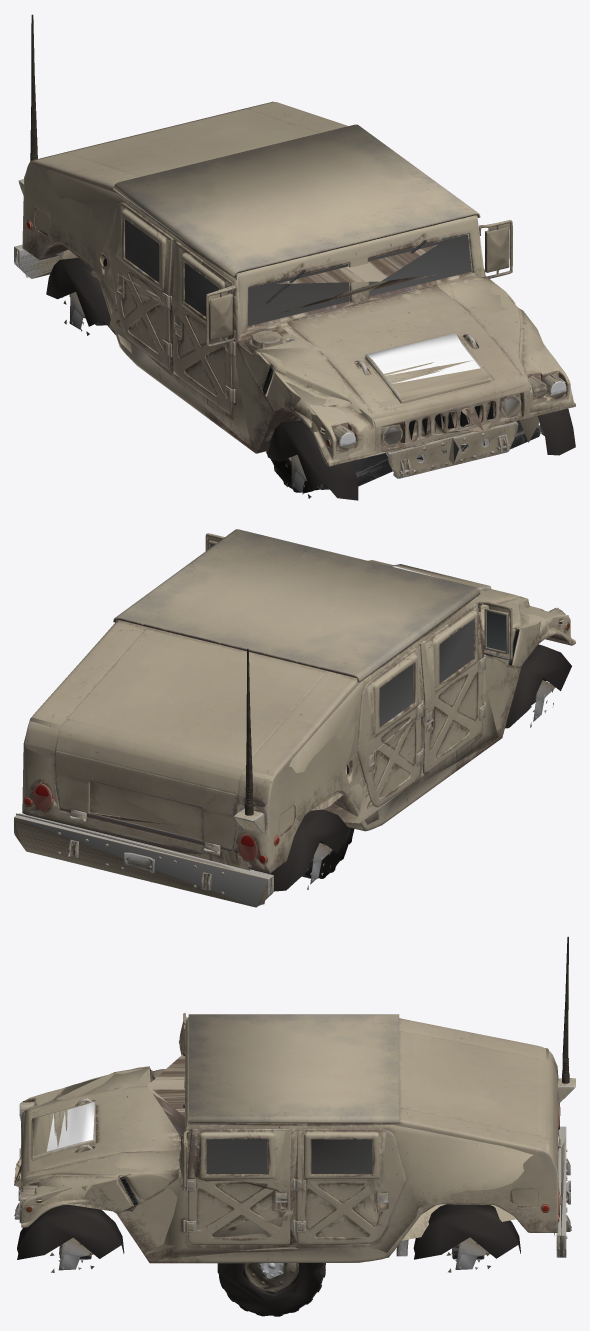
The model's file is humvee1.glb.
3 renders of one model, top to bottom at view 1: azimuth 30°, elevation 25°; view 2: azimuth 150°, elevation 25°; view 3: azimuth 270°, elevation 25°, orthographic. The views are drawn at different scales.
Parts seen in each view (by area): view 1: body0, body1, body2; view 2: body0, body1, body2, wheel0; view 3: body0, body1, body2, wheel0, wheel1.
Part boxes in pixels (<box>): body0: <box>14,14,575,489</box>; body1: <box>14,76,574,486</box>; body2: <box>25,219,575,500</box>; body0: <box>14,529,575,907</box>; body1: <box>16,533,574,905</box>; body2: <box>16,536,571,905</box>; wheel0: <box>302,827,352,878</box>; body0: <box>15,936,575,1262</box>; body1: <box>14,990,575,1263</box>; body2: <box>14,1052,569,1272</box>; wheel0: <box>217,1263,325,1316</box>; wheel1: <box>218,1263,324,1315</box>.
Bounding box in the file's own units: 2.72 × 3.16 × 4.93.
13 materials, 9 textured.
